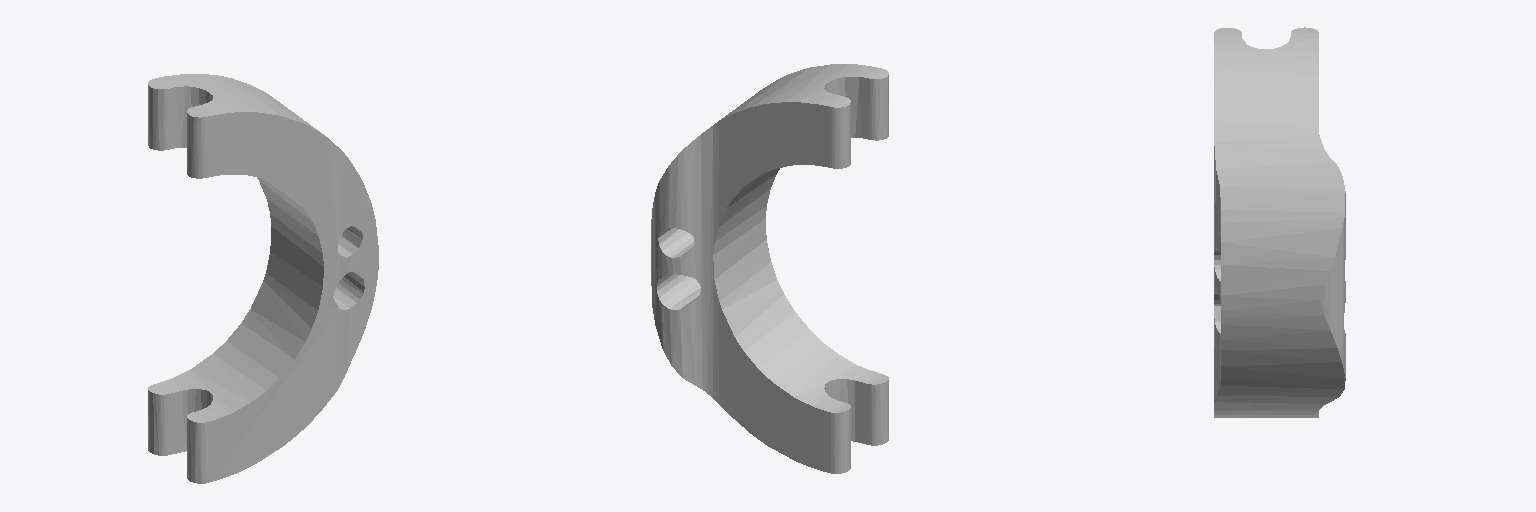
Rendered from seg20.OBJ.
3 renders of one model, left to right at view 1: azimuth 30°, elevation 25°; view 2: azimuth 150°, elevation 25°; view 3: azimuth 270°, elevation 25°, orthographic.
Parts seen in each view (by area): view 1: /ambf/env/seg20_seg20; view 2: /ambf/env/seg20_seg20; view 3: /ambf/env/seg20_seg20.
Part boxes in pixels (x1,y1,x2,y2): /ambf/env/seg20_seg20: (148, 74, 378, 483); /ambf/env/seg20_seg20: (651, 64, 888, 473); /ambf/env/seg20_seg20: (1214, 27, 1345, 417).
Size of the model in its own units: 0.0032 by 0.006 by 0.002.